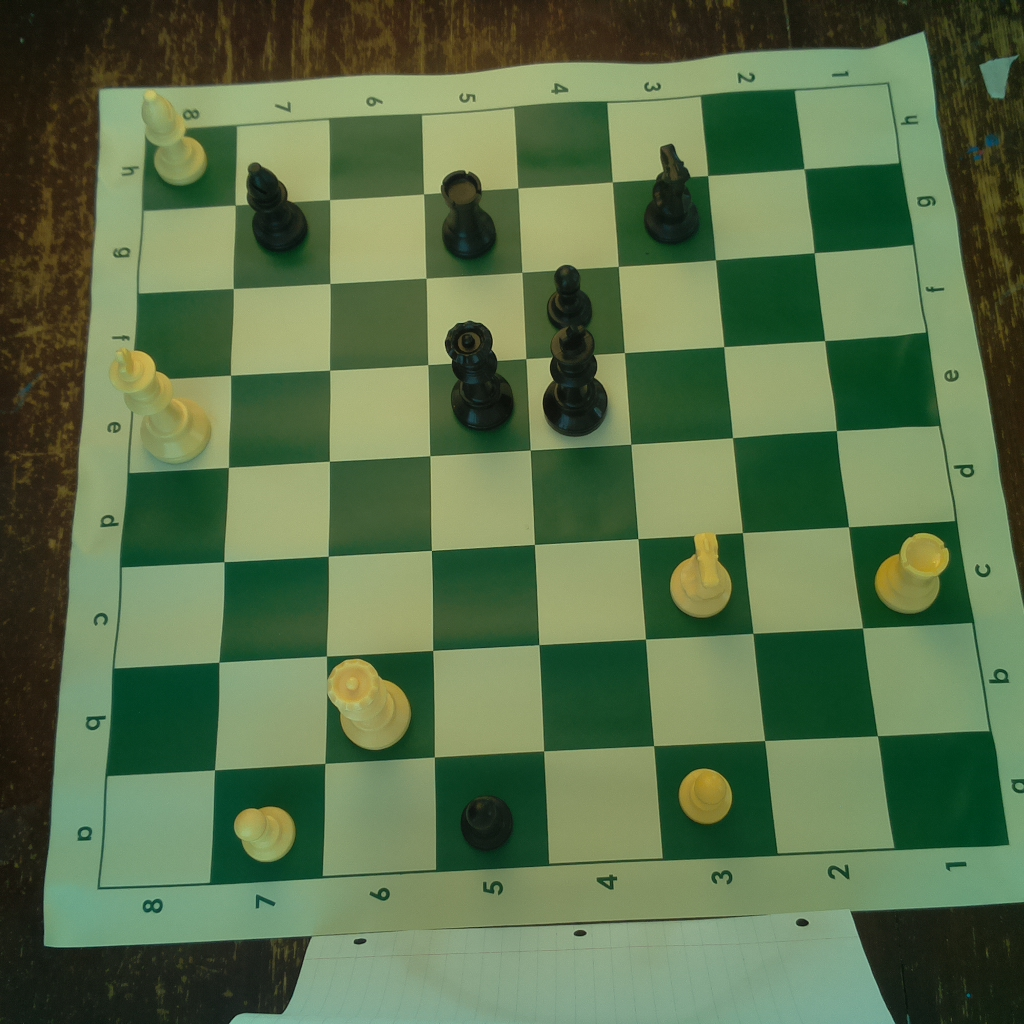black_bishop: (241, 157, 310, 256)
black_king: (538, 317, 610, 440)
black_knight: (642, 140, 703, 243)
black_pawn: (538, 258, 598, 331), (458, 792, 519, 852)
black_queen: (444, 317, 518, 432)
black_rook: (432, 166, 505, 266)
file_a: (99, 730, 1008, 891)
file_b: (106, 623, 990, 778)
file_c: (111, 521, 972, 670)
file_d: (121, 427, 958, 567)
file_e: (131, 334, 941, 474)
file_f: (137, 245, 929, 383)
file_g: (134, 165, 914, 293)
file_h: (142, 82, 902, 210)
outline: (99, 82, 1012, 891)
rank_1: (796, 82, 1011, 853)
rank_2: (699, 88, 897, 858)
rank_3: (608, 93, 780, 861)
rank_4: (515, 99, 666, 865)
rank_5: (420, 106, 550, 871)
rank_6: (321, 114, 437, 874)
rank_7: (211, 119, 331, 883)
rank_8: (98, 125, 236, 891)
white_bishop: (137, 84, 210, 188)
white_king: (107, 341, 218, 465)
white_knight: (663, 526, 740, 622)
white_pawn: (227, 791, 303, 864), (676, 762, 740, 831)
white_queen: (321, 649, 416, 754)
white_rook: (870, 530, 953, 617)
